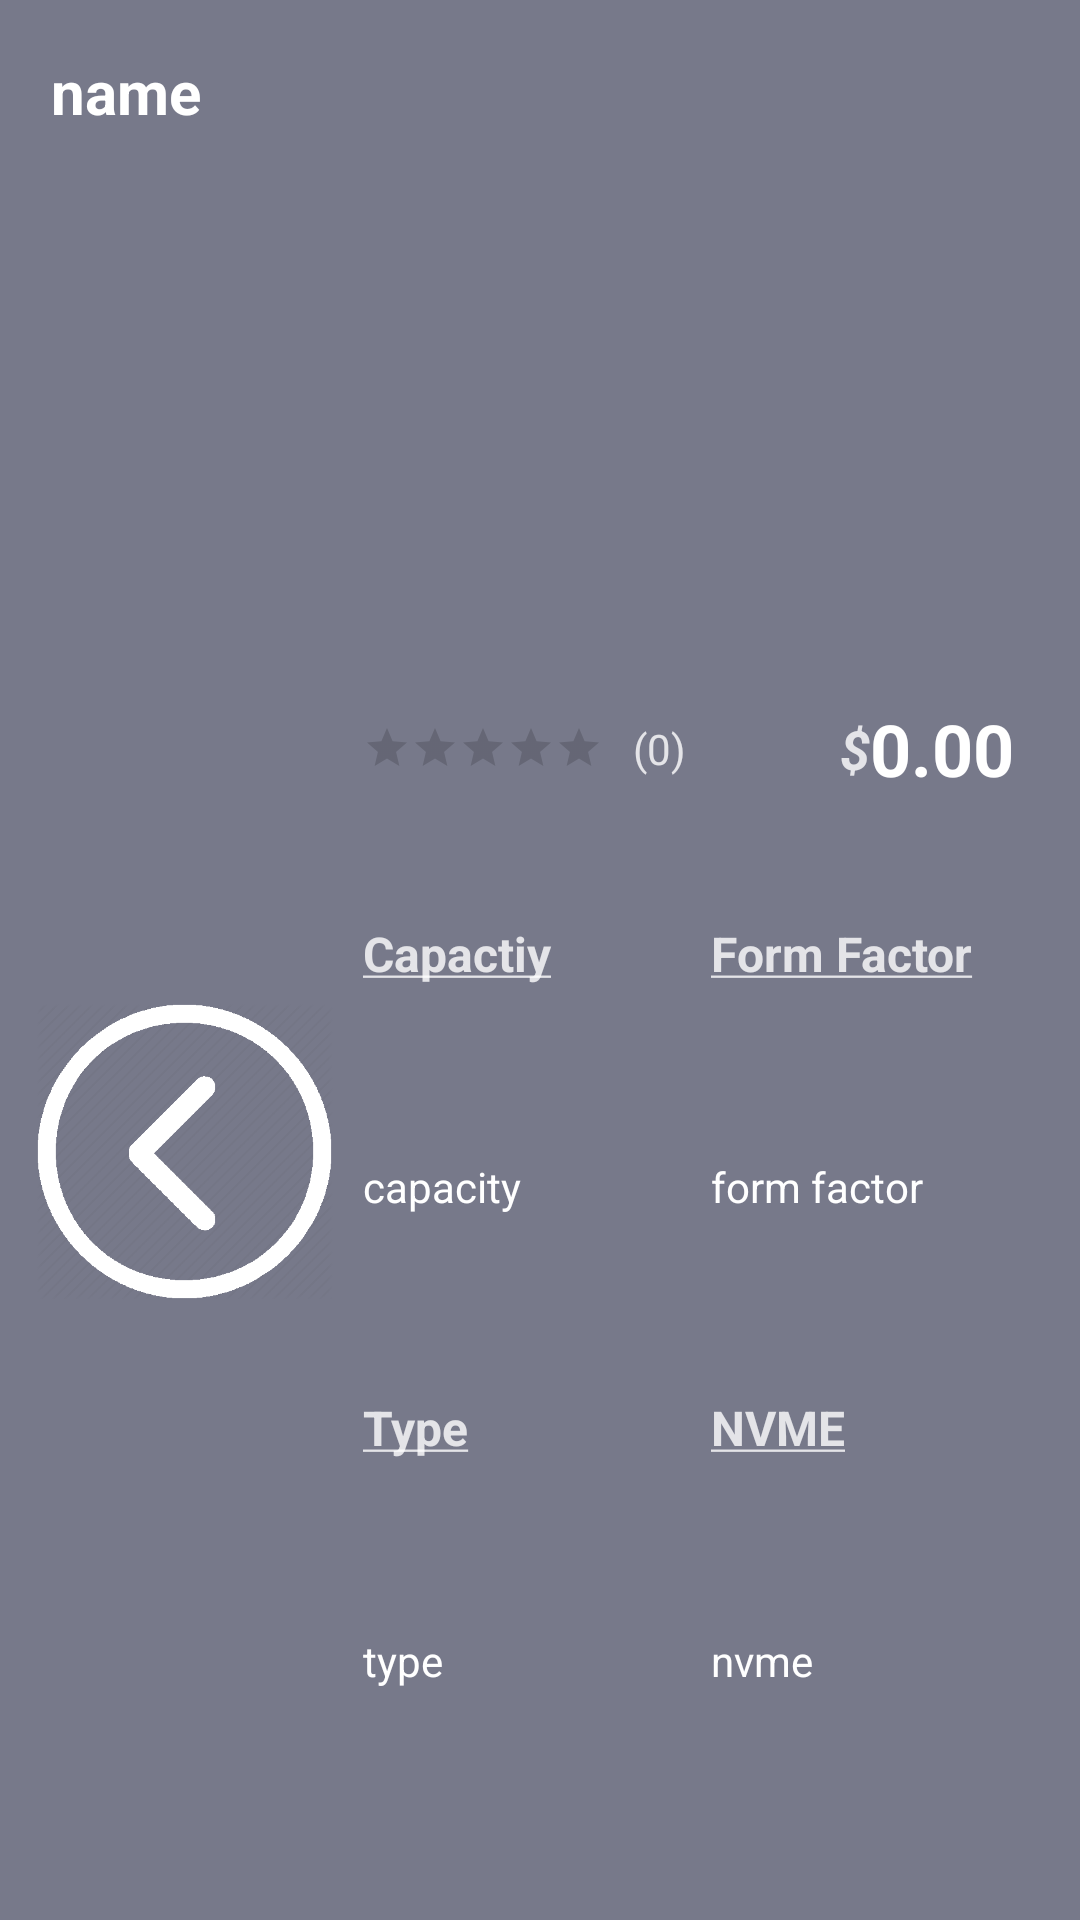

Where icons sit on this 1080w x 1920h app screen, as (x1, y1, x2, y2):
back: (38, 1005, 331, 1298)
